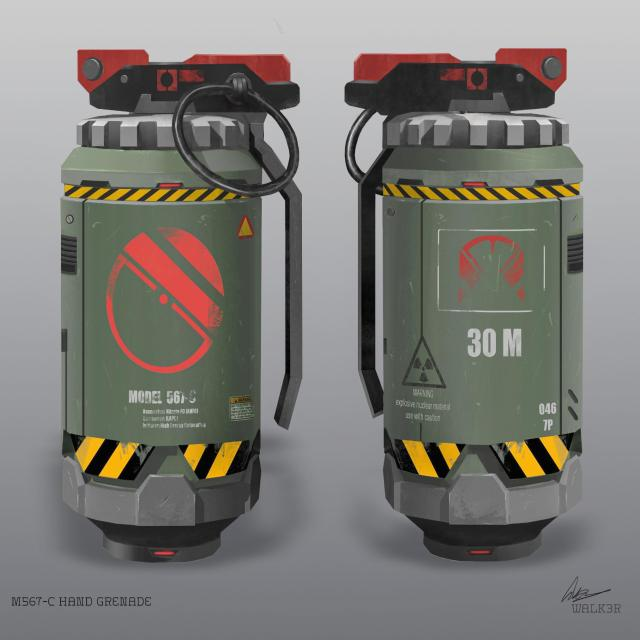grenade: (62, 46, 304, 565), (345, 48, 585, 563)
